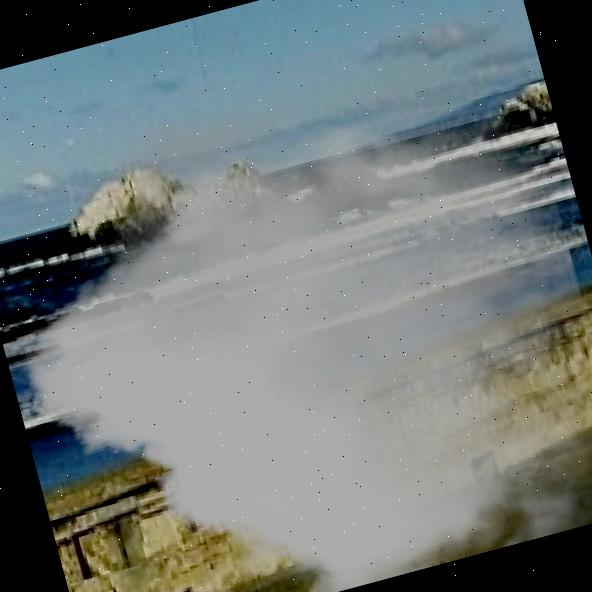smoke: (0, 17, 592, 592)
